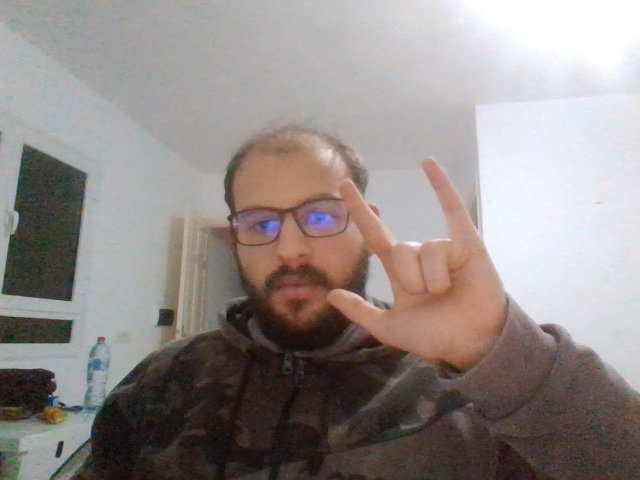I Love You: (335, 163, 503, 353)
